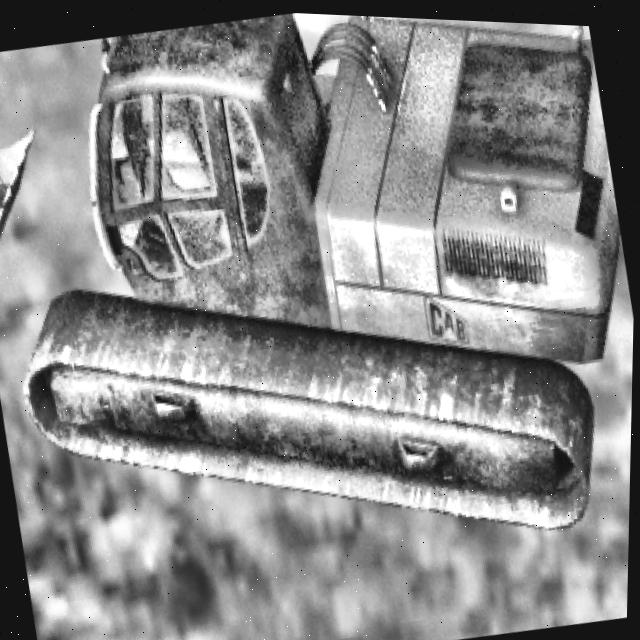excavator: (0, 0, 640, 618)
